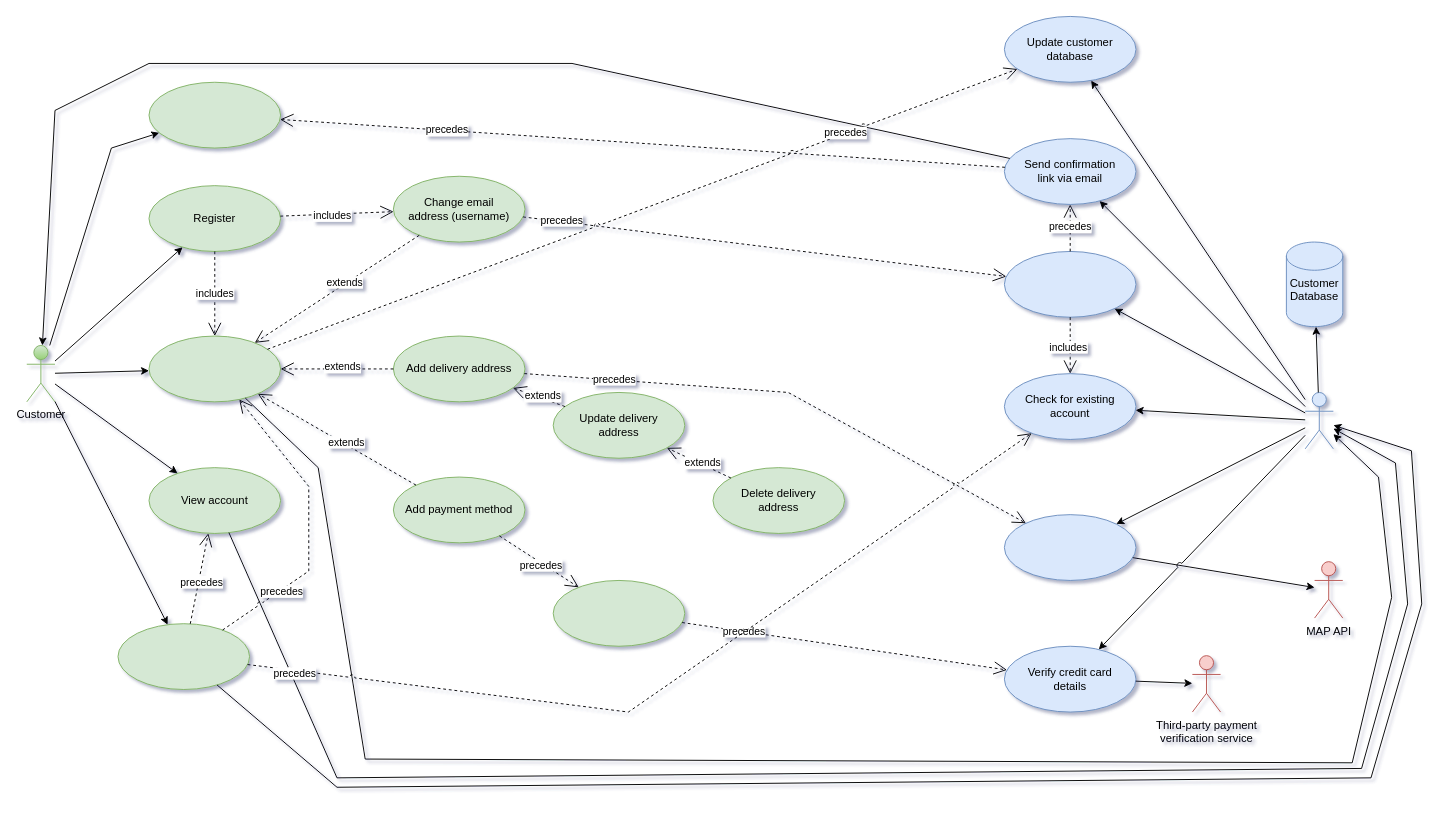
Some shapes in this 1451 by 817 pixel diagram are drawn without their labels. The centre of each missing label's shape, as x and y in pixels:
"Confirm email address" belongs at [214,114].
"Enter payment details" belongs at [618,613].
"Login" belongs at [183,656].
"System" belongs at [1318,420].
"Update account extends details" belongs at [214,368].
"Verify email is unique" belongs at [1069,284].
"Verify valid address" belongs at [1069,547].
